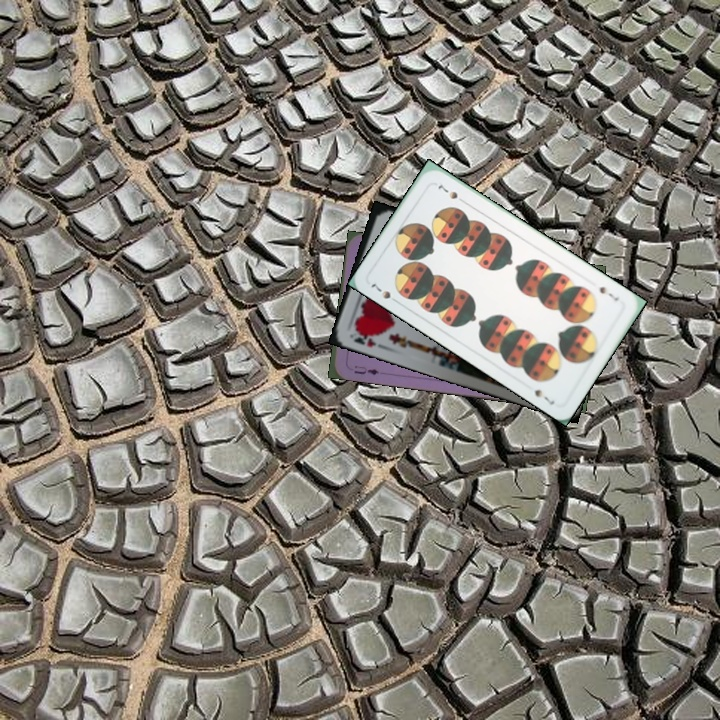EU: (350, 361, 382, 377)
HK: (350, 326, 386, 350)
S7: (366, 279, 402, 306), (595, 283, 621, 304)
